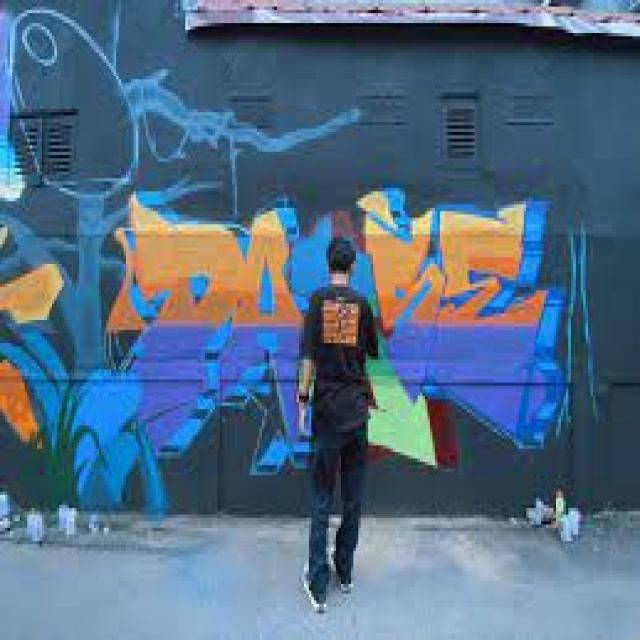-: (0, 6, 602, 517)
